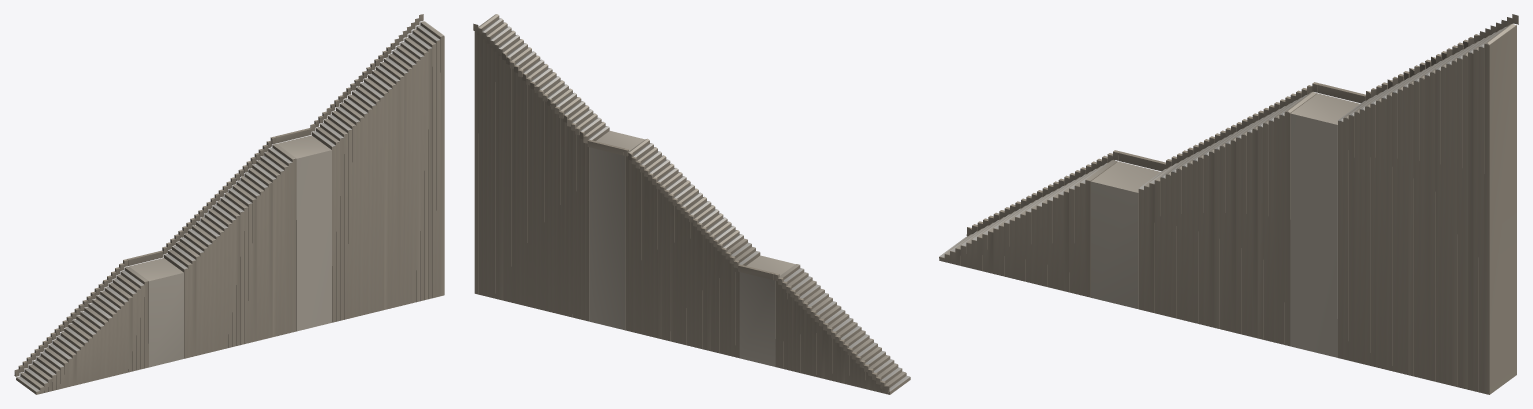
The model's file is stairs_ridge_low.glb.
The picture shows the model from 3 angles, left to right: view 1: azimuth 30°, elevation 25°; view 2: azimuth 150°, elevation 25°; view 3: azimuth 330°, elevation 25°; orthographic projection. The views are drawn at different scales.
Bounding box in the file's own units: 34.63 × 21.51 × 3.23.
